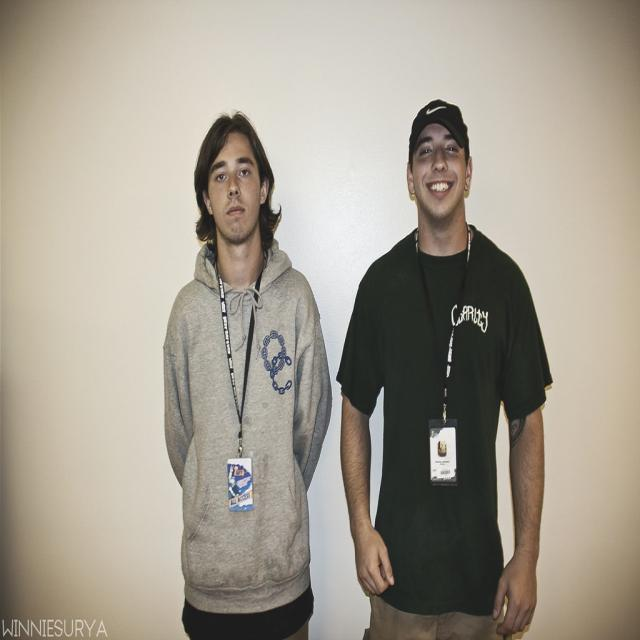hat: (411, 98, 467, 148)
